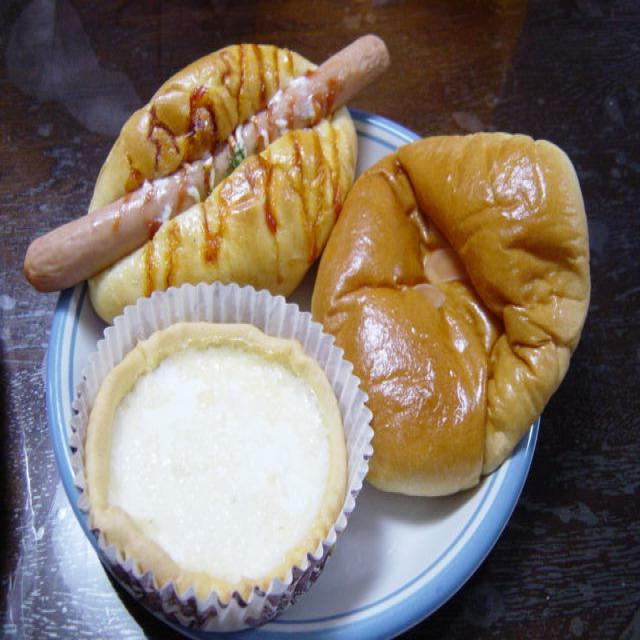三明治: (21, 17, 434, 315)
